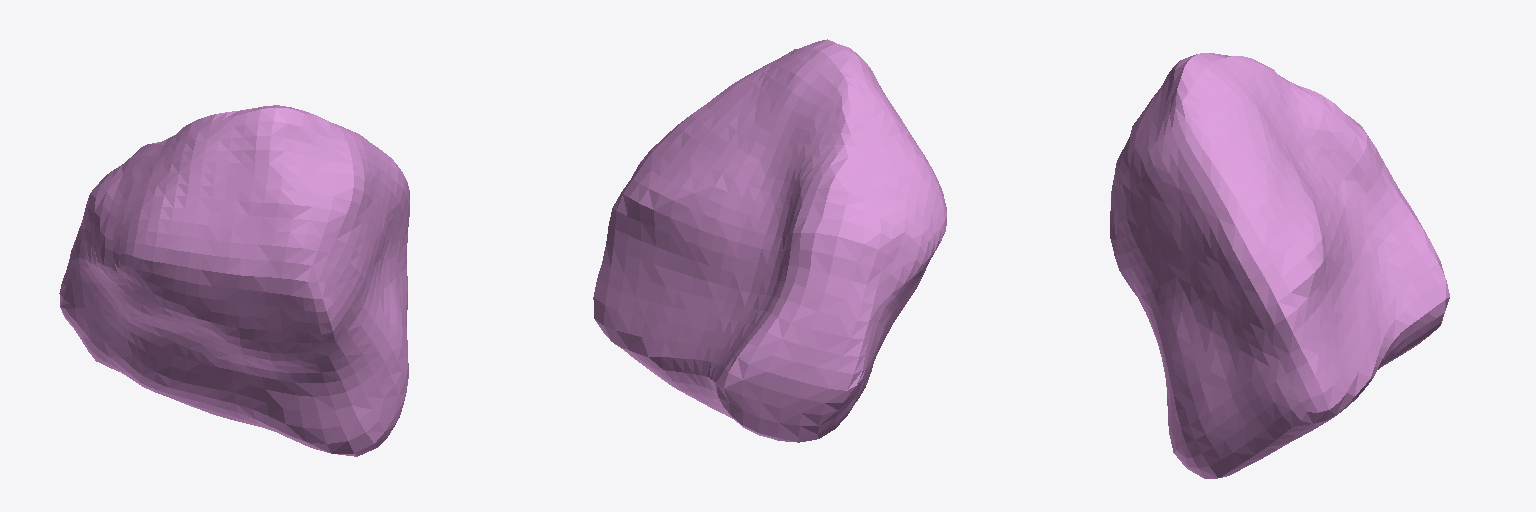
File: Cuniform_Lateral.obj
3 renders of one model, left to right at view 1: azimuth 30°, elevation 25°; view 2: azimuth 150°, elevation 25°; view 3: azimuth 270°, elevation 25°, orthographic.
Parts seen in each view (by area): view 1: Object_0Cuniform_Lateral; view 2: Object_0Cuniform_Lateral; view 3: Object_0Cuniform_Lateral.
Part boxes in pixels (left/top/right/bottom): Object_0Cuniform_Lateral: left=59, top=105, right=409, bottom=456; Object_0Cuniform_Lateral: left=593, top=39, right=946, bottom=442; Object_0Cuniform_Lateral: left=1110, top=53, right=1449, bottom=478.
Bounding box in the file's own units: 26.85 × 30.44 × 25.19.